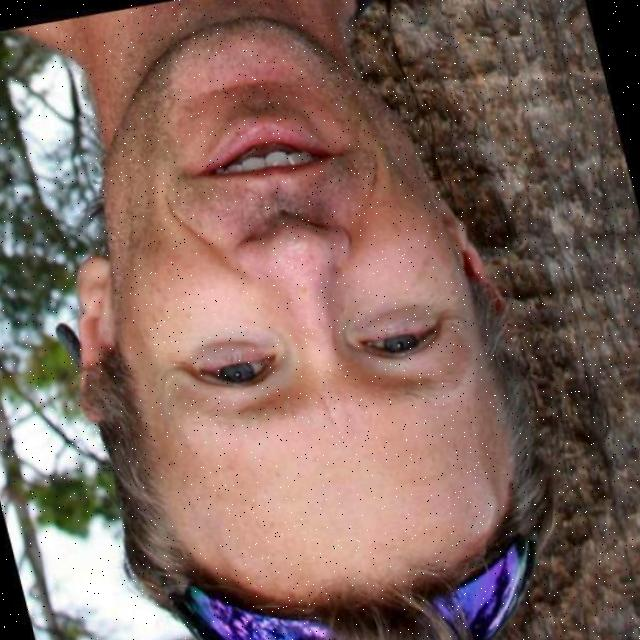puffy_eyes: (358, 297, 440, 335), (188, 326, 265, 365)
